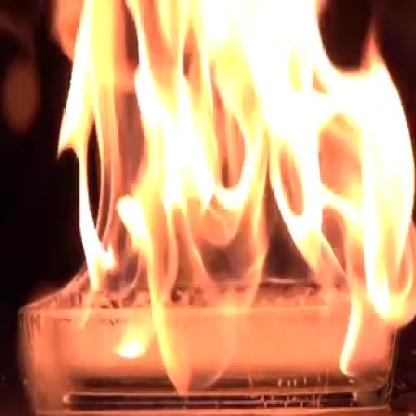fire: (50, 0, 416, 372)
